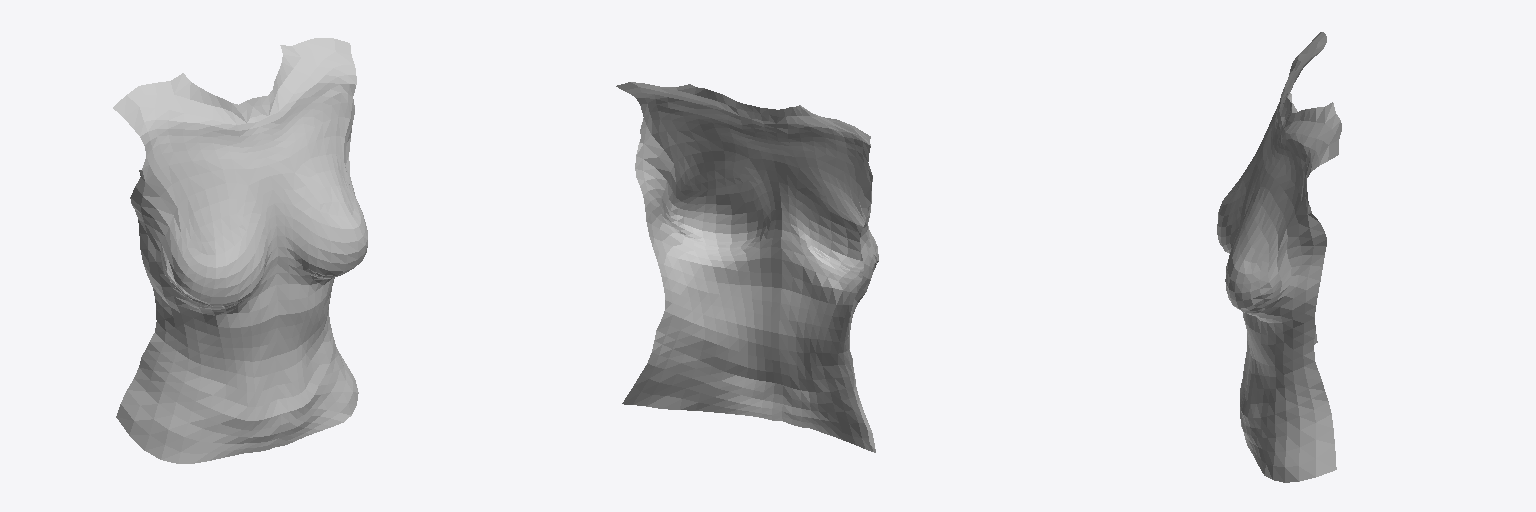
The model's file is deformed_alpha_2_Model1.obj.
3 renders of one model, left to right at view 1: azimuth 30°, elevation 25°; view 2: azimuth 150°, elevation 25°; view 3: azimuth 270°, elevation 25°, orthographic.
Bounding box in the file's own units: 0.3165 × 0.4408 × 0.1387.